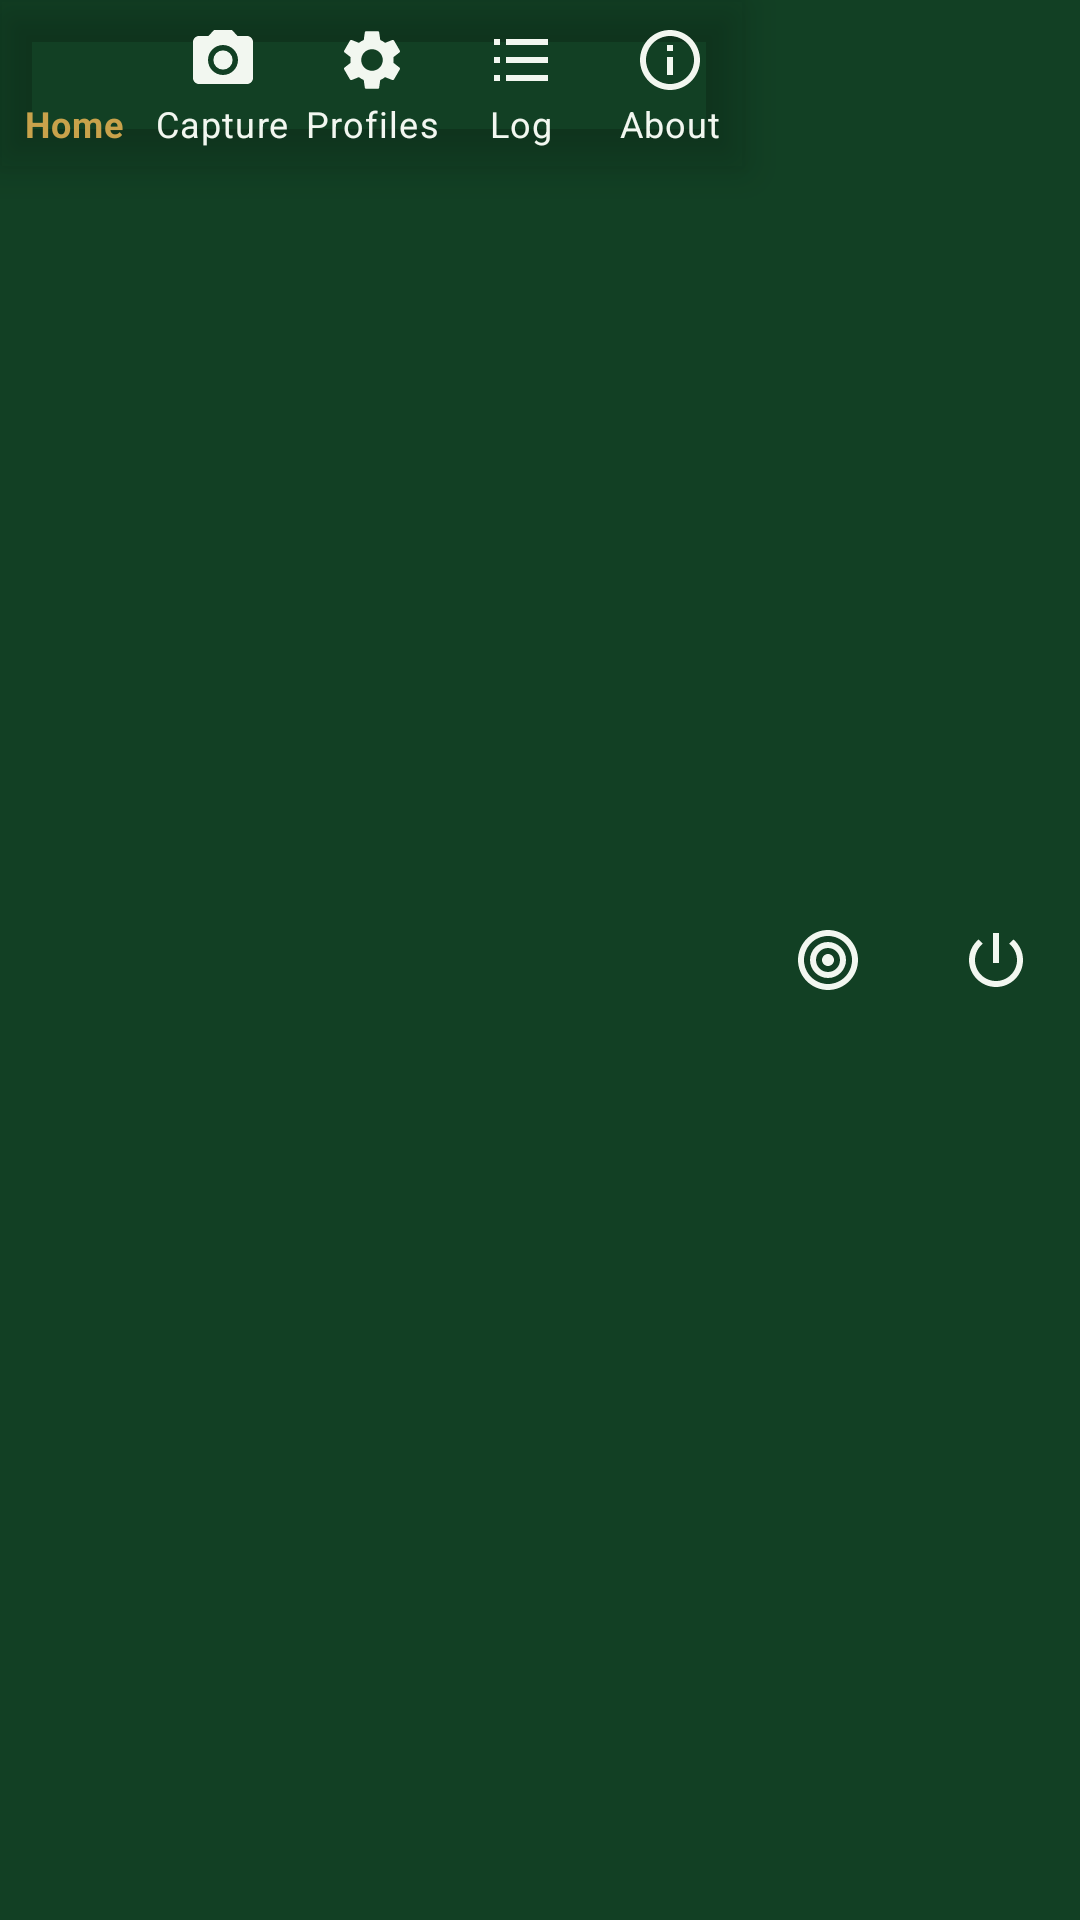

Where to tap for icons on this 1080px x 1920px app screen, as point (x, y):
exit: point (996, 960)
